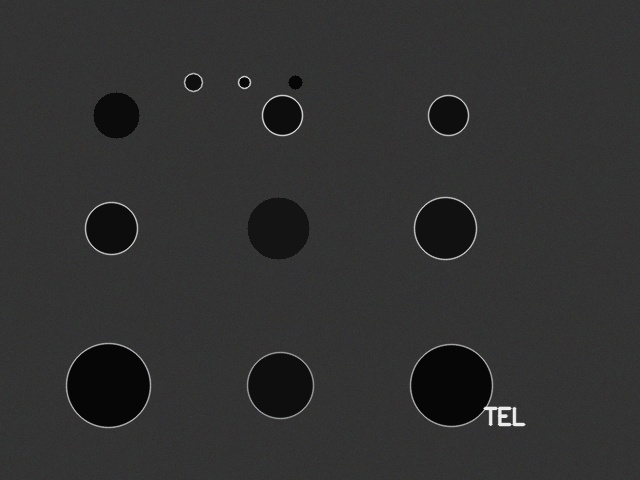hole: (66, 343, 150, 427), (410, 344, 492, 426), (247, 352, 313, 418), (247, 197, 309, 259), (414, 197, 476, 259), (85, 202, 137, 254), (93, 92, 139, 138), (262, 95, 302, 135), (428, 95, 468, 135), (184, 73, 202, 91), (288, 75, 302, 89), (238, 76, 250, 88)
